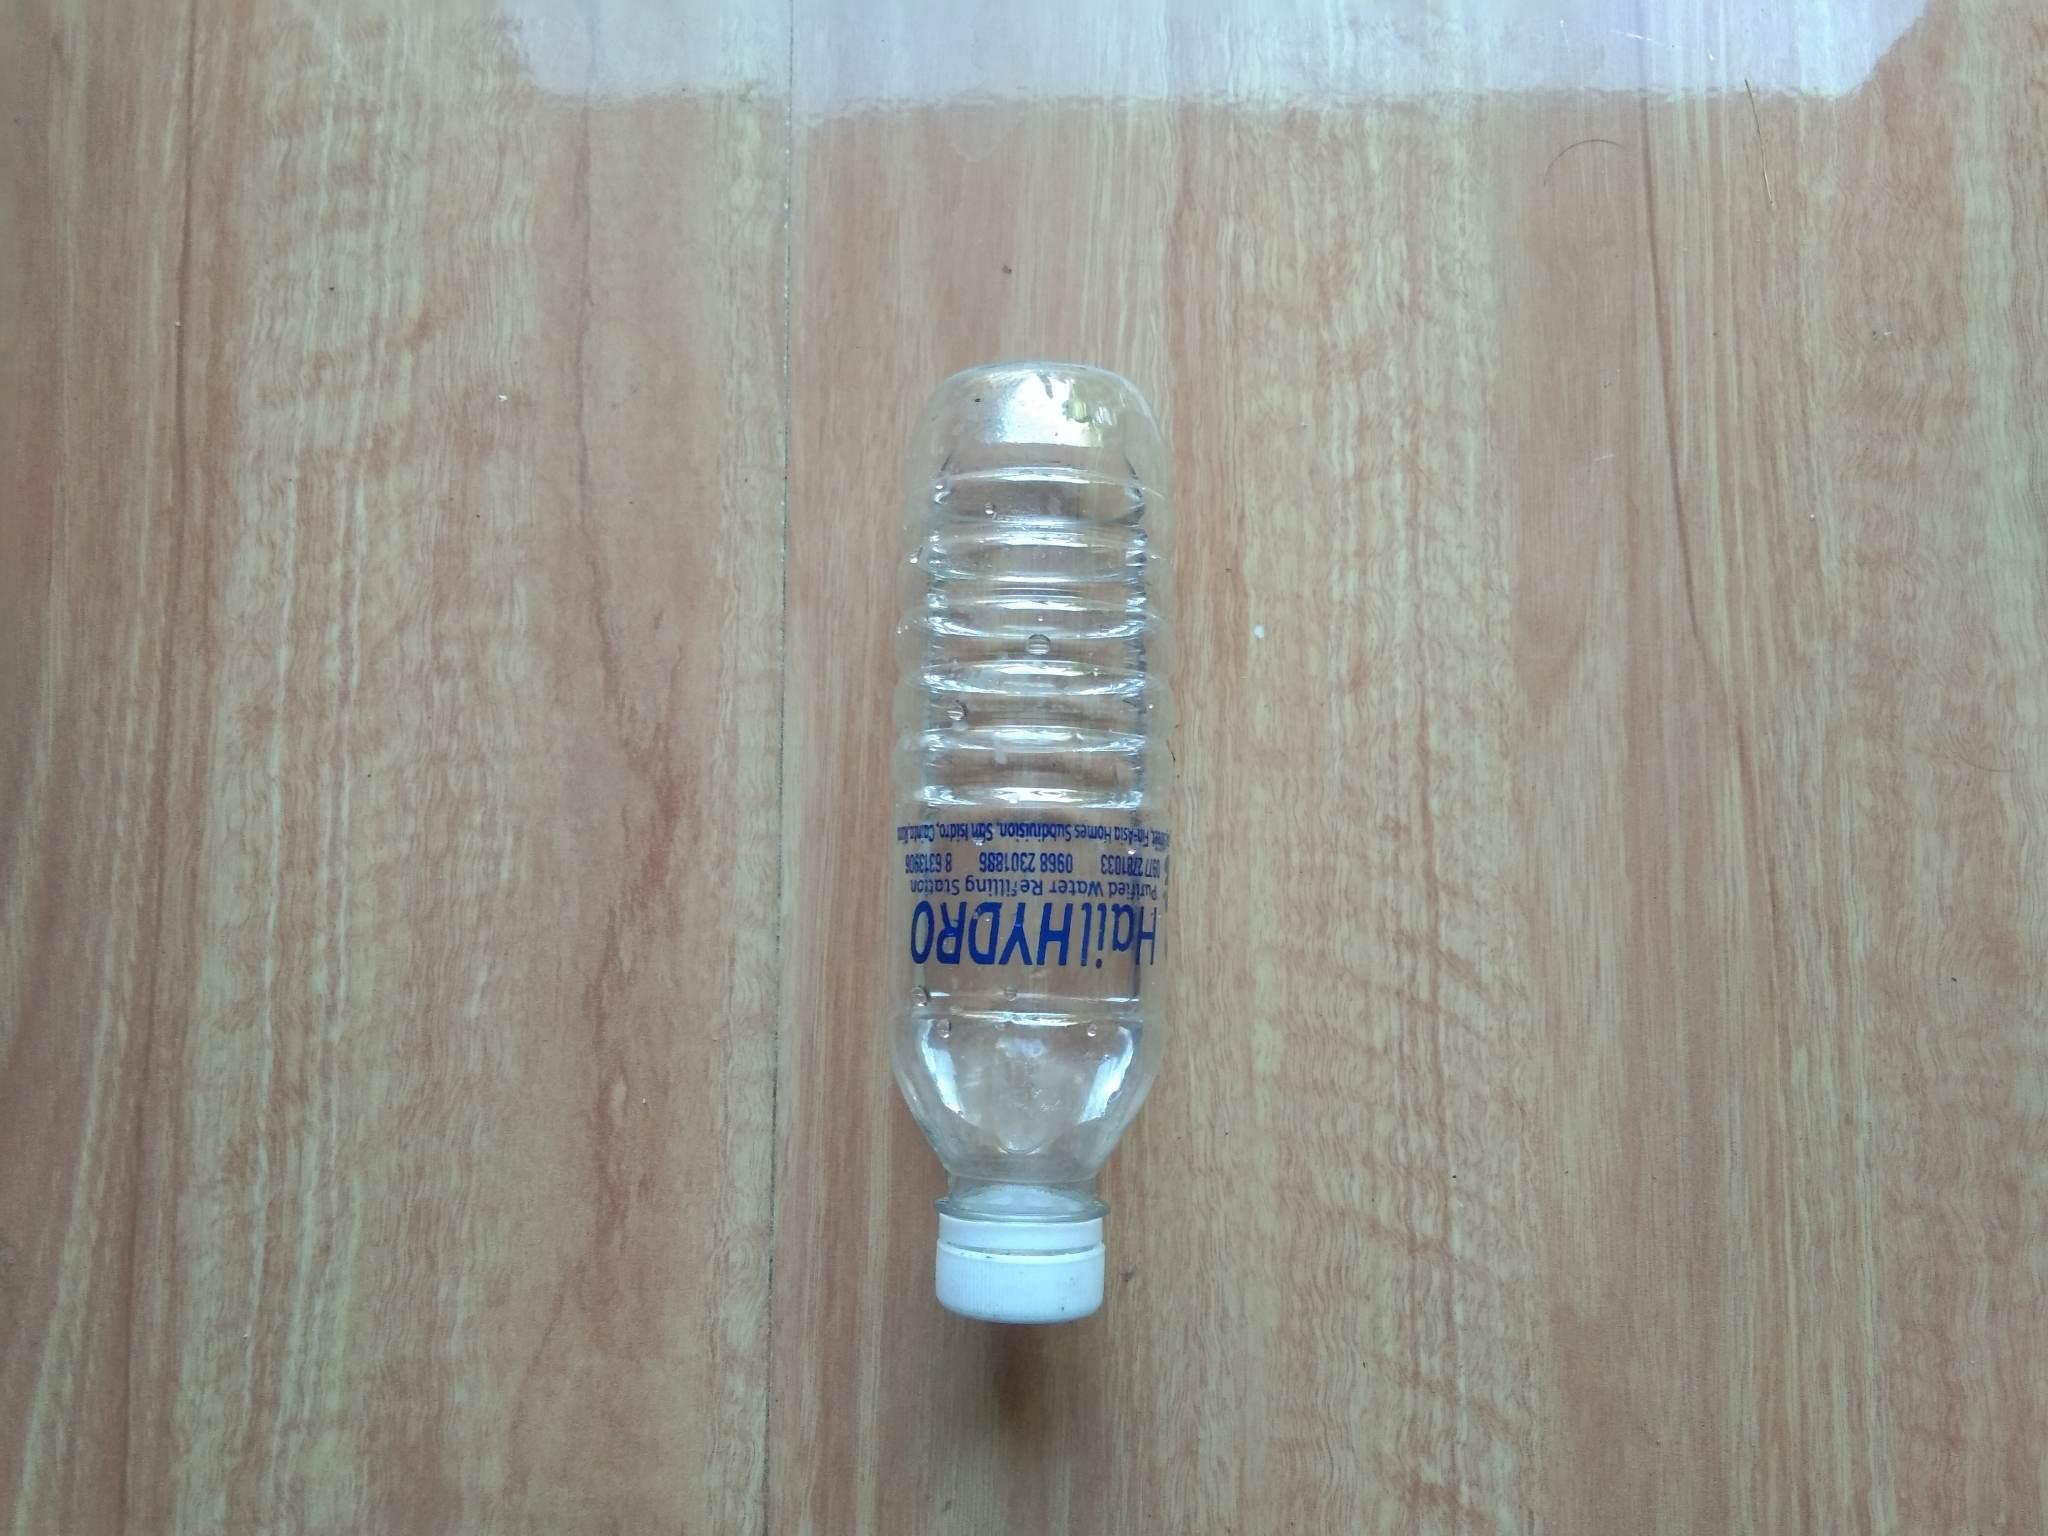plastic: (832, 333, 1199, 1400)
